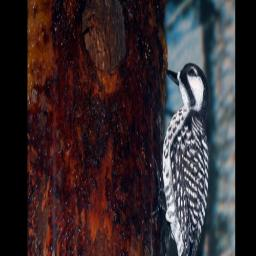Woodpecker: (150, 55, 213, 256)
